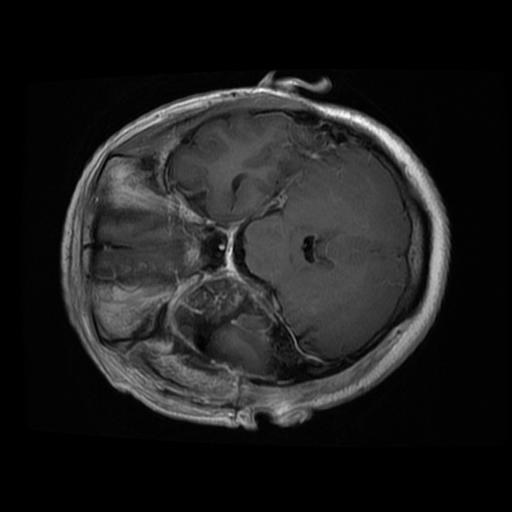glioma: (176, 280, 277, 375)
